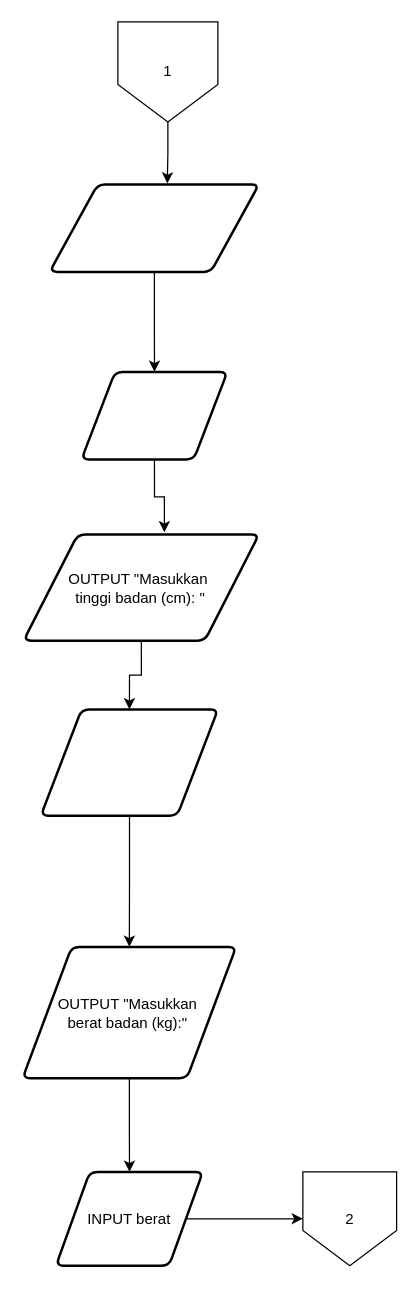
Some shapes in this 419 by 1289 pixel diagram are drawn without their labels. Each missing label, with the box of its shape:
INPUT nama: (80, 370, 228, 460)
INPUT tinggi: (39, 708, 219, 816)
OUTPUT "Masukkan nama pasien: ": (48, 182, 260, 272)
